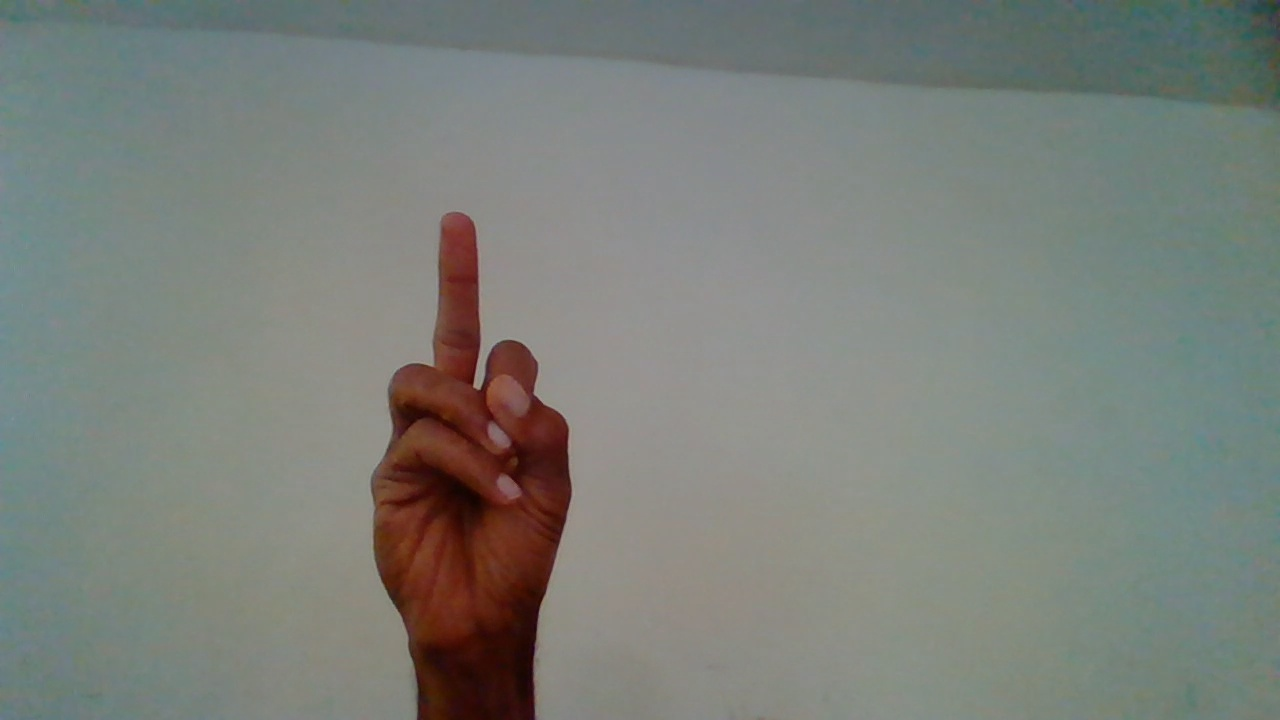he: (364, 214, 582, 717)
